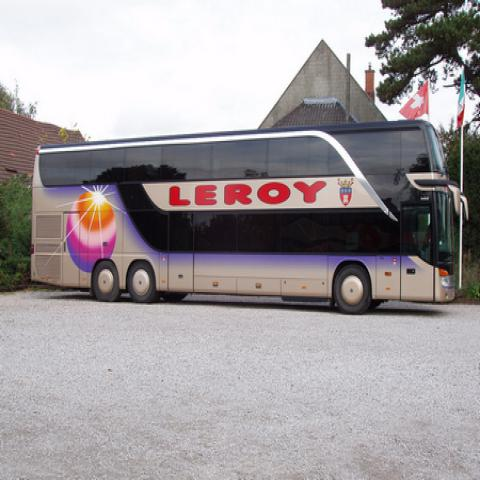bus: (30, 120, 472, 310)
